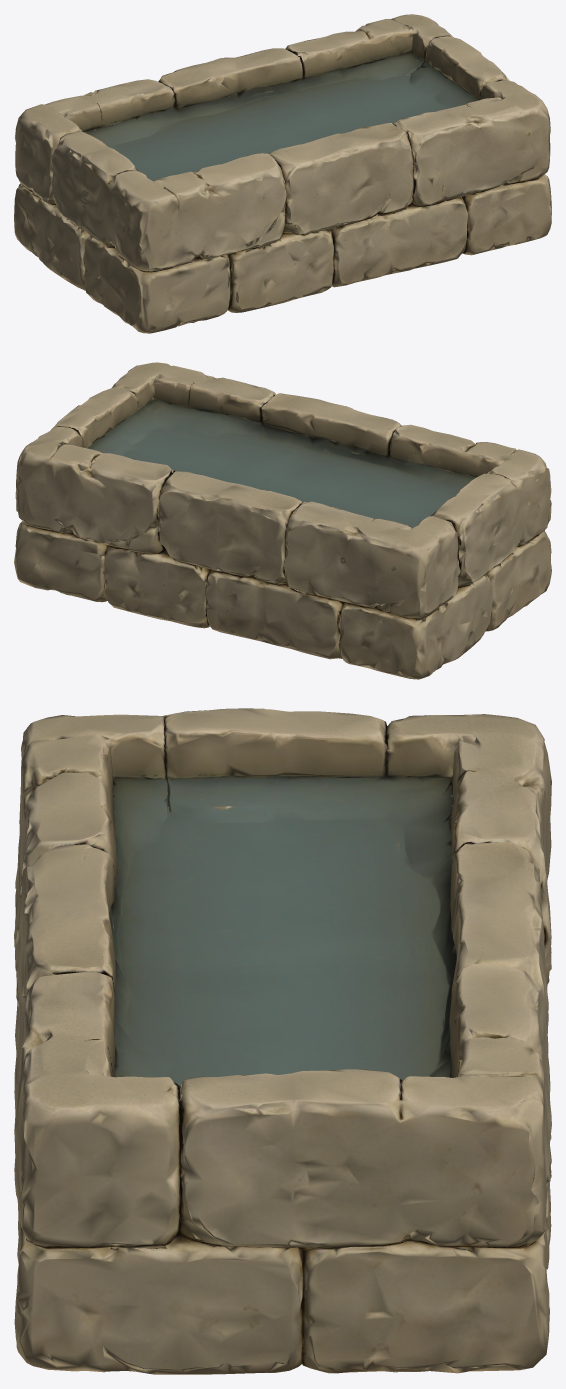
The model's file is camp_water_trough_game.glb.
3 views of the same model, one above another, from view 1: azimuth 30°, elevation 25°; view 2: azimuth 150°, elevation 25°; view 3: azimuth 270°, elevation 25° (orthographic). The views are drawn at different scales.
Parts seen in each view (by area): view 1: tripo_node_5629b475-d331-462b-ad74-d1b71368198f; view 2: tripo_node_5629b475-d331-462b-ad74-d1b71368198f; view 3: tripo_node_5629b475-d331-462b-ad74-d1b71368198f.
Part boxes in pixels (<box>): tripo_node_5629b475-d331-462b-ad74-d1b71368198f: <box>14,14,551,333</box>; tripo_node_5629b475-d331-462b-ad74-d1b71368198f: <box>14,362,551,679</box>; tripo_node_5629b475-d331-462b-ad74-d1b71368198f: <box>14,708,551,1374</box>.
Bounding box in the file's own units: 0.9791 × 0.3198 × 0.5497.
1 material, 1 textured.
